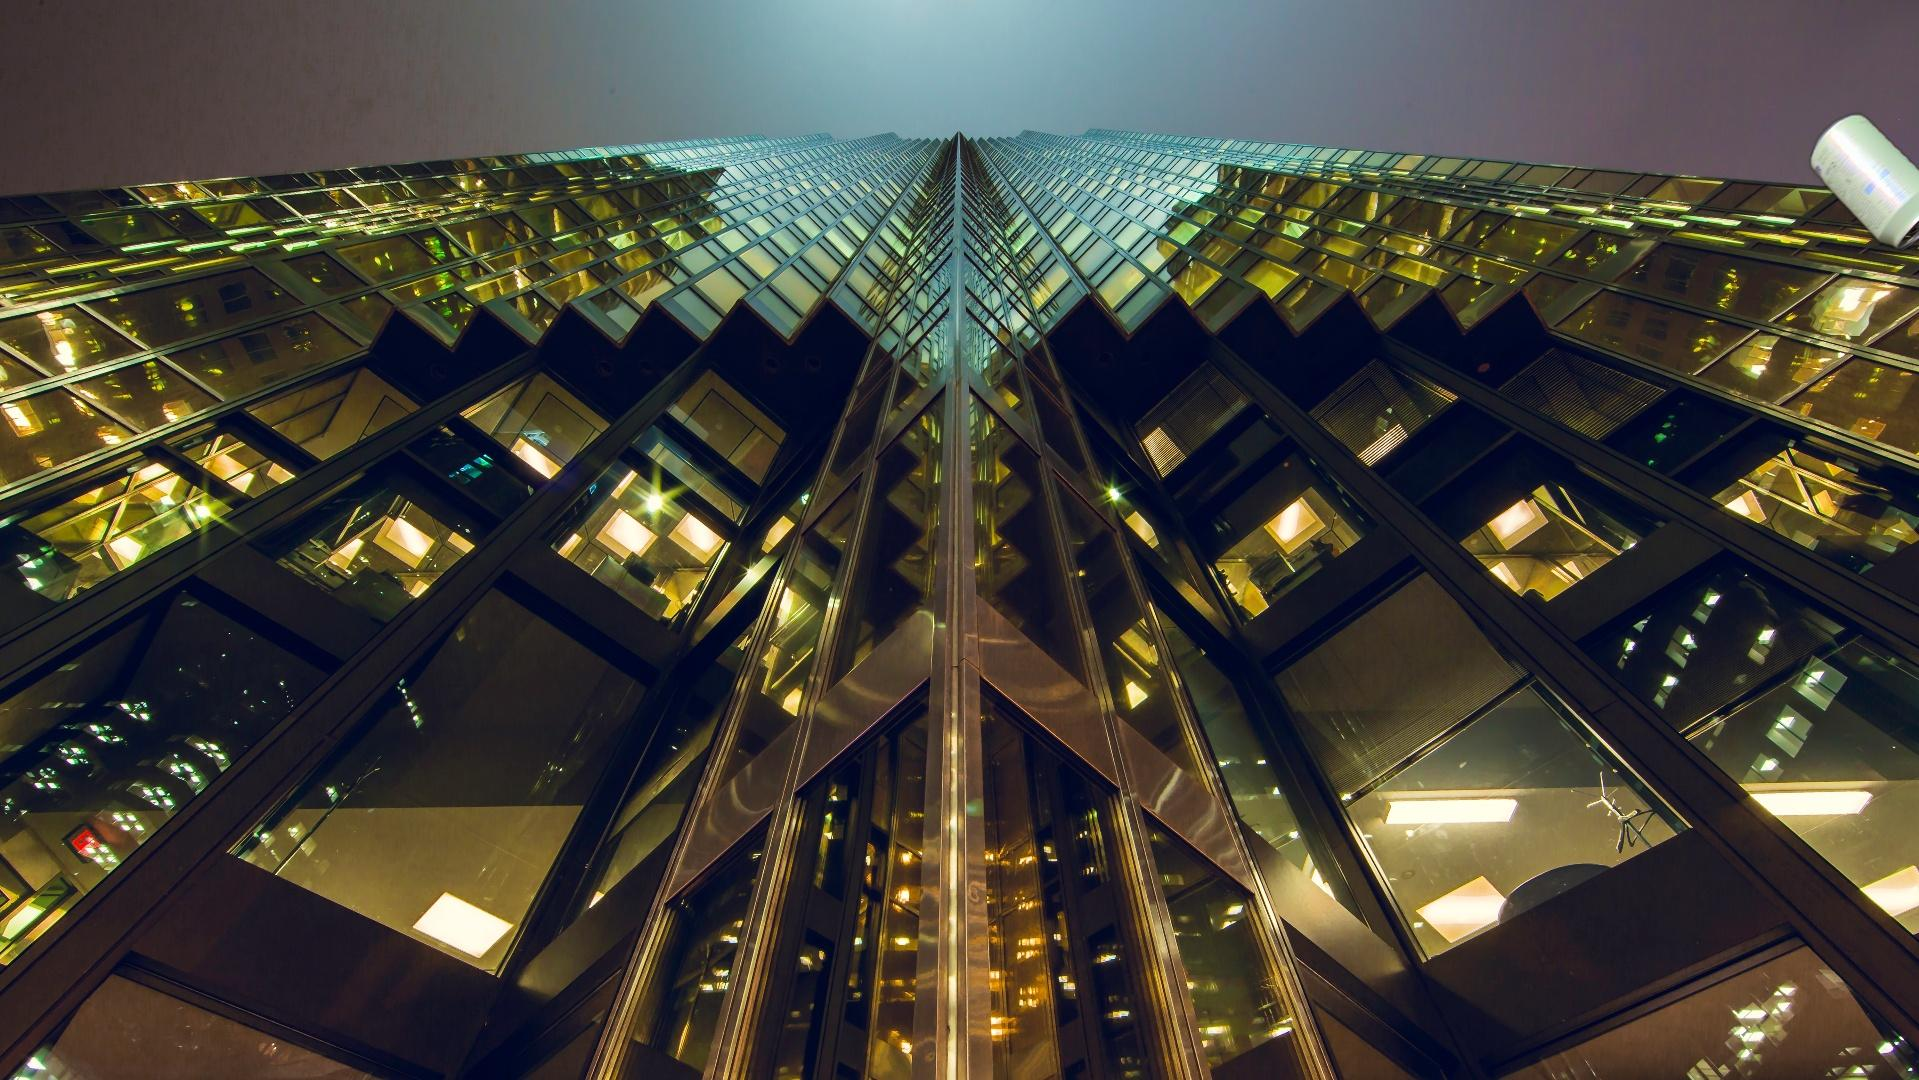metal-cans: (1591, 108, 1919, 638)
